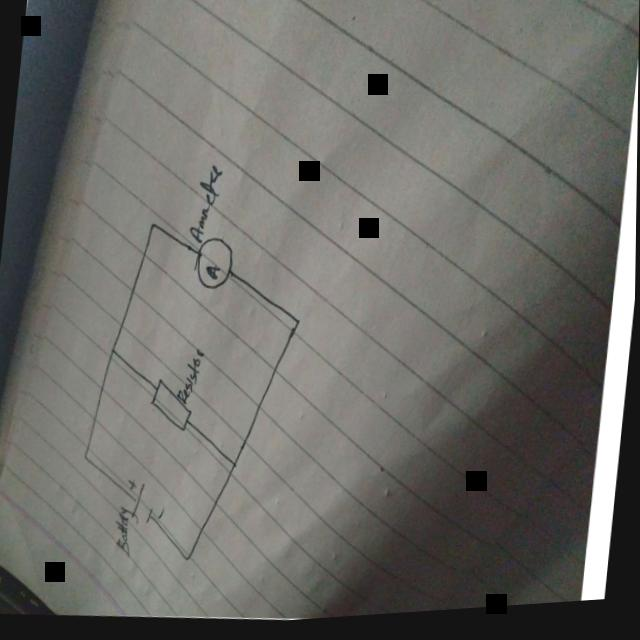junction: (107, 345, 120, 357), (180, 554, 193, 566), (148, 221, 161, 233), (81, 452, 94, 463), (228, 461, 241, 472), (292, 320, 305, 331)
resistor: (146, 376, 197, 437)
source: (125, 476, 171, 528)
text: (187, 164, 224, 248), (175, 347, 209, 410), (112, 506, 141, 559)
